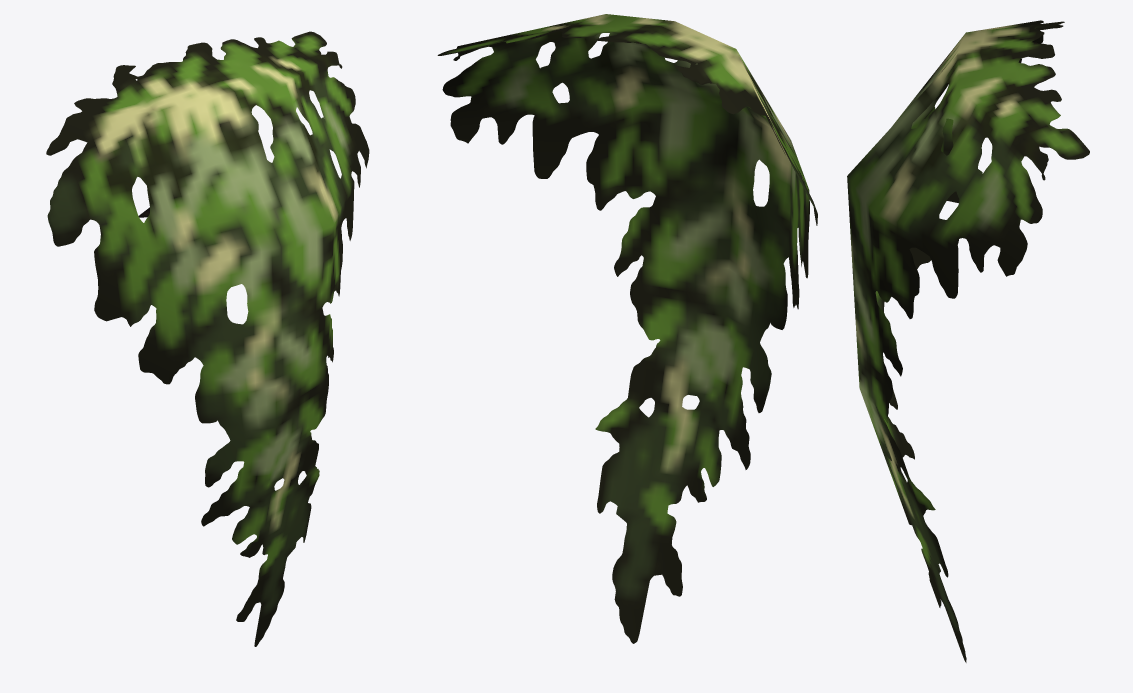
Rendered from foriage02.fbx.
3 renders of one model, left to right at view 1: azimuth 30°, elevation 25°; view 2: azimuth 150°, elevation 25°; view 3: azimuth 270°, elevation 25°, orthographic. The views are drawn at different scales.
Parts seen in each view (by area): view 1: foriage02; view 2: foriage02; view 3: foriage02.
Part boxes in pixels (bbox=[...]): foriage02: bbox=[46, 31, 369, 646]; foriage02: bbox=[437, 14, 817, 643]; foriage02: bbox=[847, 20, 1089, 662].
Bounding box in the file's own units: 1.29 × 2.2 × 0.8513.
